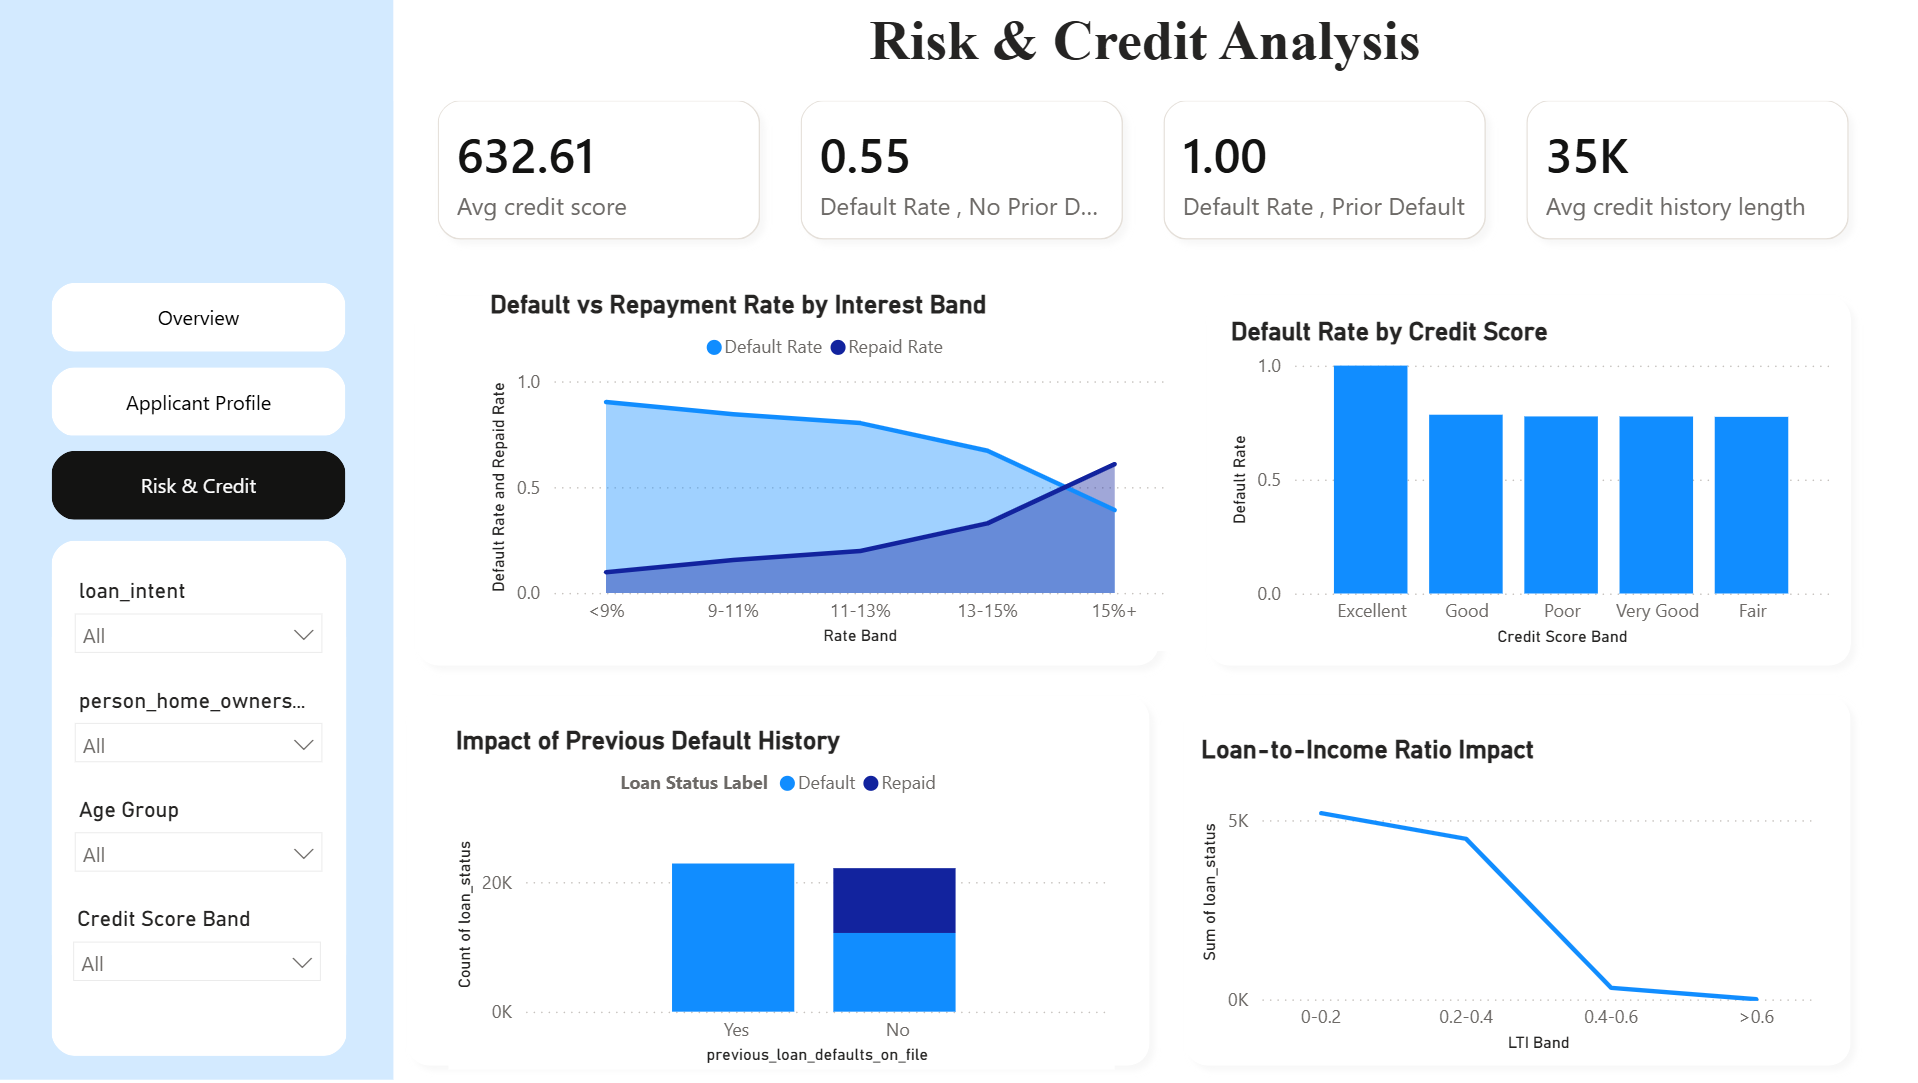

What the dashboard file says about the page in this screenshot:
{"tool":"powerbi","page":{"name":"Risk & Credit","canvas":[1280,720],"ordinal":2},"visuals":[{"type":"shape","box":[268.6,188.6,512.9,264.3],"z":0},{"type":"shape","box":[795.7,188.6,447.1,264.3],"z":1000},{"type":"shape","box":[262.9,455.7,512.9,264.3],"z":2000},{"type":"shape","box":[781.4,455.7,461.4,264.3],"z":3000},{"type":"columnChart","title":"Default Rate by Credit Score","fields":{"Category":["loan_data.Credit Score Band"],"Y":["loan_data.Default Rate"]},"box":[815.7,210,408.6,224.3],"z":4000},{"type":"areaChart","title":"Default vs Repayment Rate by Interest Band","fields":{"Category":["loan_data.Rate Band"],"Y":["loan_data.Default Rate","loan_data.Repaid Rate"]},"box":[321.4,192.9,460,241.4],"z":5000},{"type":"columnChart","title":"Impact of Previous Default History","fields":{"Category":["loan_data.previous_loan_defaults_on_file"],"Y":["CountNonNull(loan_data.loan_status)"],"Series":["loan_data.Loan Status Label"]},"box":[298.6,482.9,444.3,230],"z":6000},{"type":"lineChart","title":"Loan-to-Income Ratio Impact","fields":{"Category":["loan_data.LTI Band"],"Y":["Sum(loan_data.loan_status)"]},"box":[795.7,490,418.6,215.7],"z":7000},{"type":"cardVisual","fields":{"Data":["Avg(loan_data.credit_score)","loan_data.Default Rate - No Prior Default","loan_data.Default Rate - Prior Default","loan_data.Count Default"]},"box":[262.9,37.1,1001.4,151.4],"z":8000},{"type":"shape","box":[0,0,262.3,719.8],"z":9000},{"type":"pageNavigator","box":[34.2,188.2,196.7,158.2],"z":10000},{"type":"shape","box":[34.2,360.6,196.7,343.5],"z":11000},{"type":"slicer","fields":{"Values":["loan_data.loan_intent"]},"box":[39.9,380.6,185.3,72.7],"z":12000},{"type":"slicer","fields":{"Values":["loan_data.person_home_ownership"]},"box":[39.9,453.3,185.3,72.7],"z":13000},{"type":"slicer","fields":{"Values":["loan_data.Age Group"]},"box":[39.9,526,185.3,72.7],"z":14000},{"type":"slicer","fields":{"Values":["loan_data.Credit Score Band"]},"box":[38.5,598.7,185.3,72.7],"z":15000},{"type":"textbox","box":[262.9,0,1001.4,67.1],"z":16000}]}

Visuals, with their boxes in screenshot pixels (x1, y1, x2, y2), scaled from the page's 1280x720 canvas onto the 1918x1083 screenshot:
shape: 402 284 1171 681
shape: 1192 284 1862 681
shape: 394 685 1162 1082
shape: 1171 685 1862 1082
"Default Rate by Credit Score" columnChart: 1222 316 1835 653
"Default vs Repayment Rate by Interest Band" areaChart: 482 290 1171 653
"Impact of Previous Default History" columnChart: 447 726 1113 1072
"Loan-to-Income Ratio Impact" lineChart: 1192 737 1820 1061
cardVisual - Avg(loan_data.credit_score) x loan_data.Default Rate - No Prior Default: 394 56 1894 284
shape: 0 0 393 1082
pageNavigator: 51 283 346 521
shape: 51 542 346 1059
slicer - loan_data.loan_intent: 60 572 337 682
slicer - loan_data.person_home_ownership: 60 682 337 791
slicer - loan_data.Age Group: 60 791 337 901
slicer - loan_data.Credit Score Band: 58 901 335 1010
textbox: 394 0 1894 101
